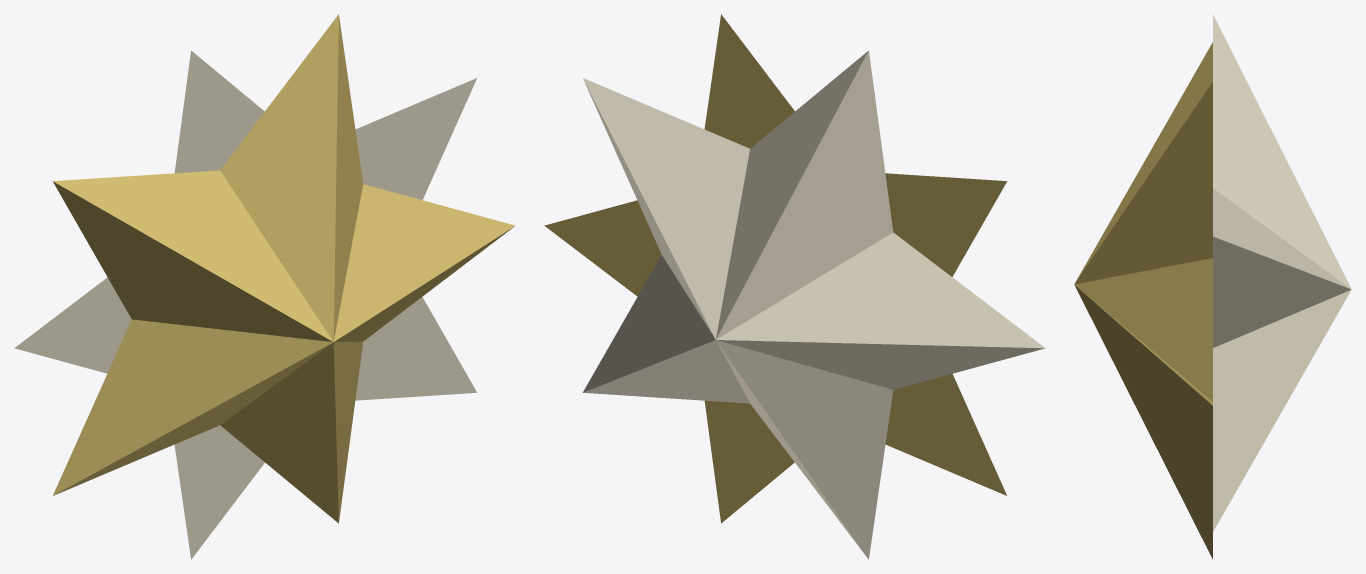
File: star.glb
The picture shows the model from 3 angles, left to right: view 1: azimuth 30°, elevation 25°; view 2: azimuth 150°, elevation 25°; view 3: azimuth 270°, elevation 25°; orthographic projection. The views are drawn at different scales.
Parts seen in each view (by area): view 1: Mesh_Mesh_head_geo.001_lambert2SG.001; view 2: Mesh_Mesh_head_geo.001_lambert2SG.001; view 3: Mesh_Mesh_head_geo.001_lambert2SG.001.
Boxes of the visible parts, x1,y1,x2,y2 form: Mesh_Mesh_head_geo.001_lambert2SG.001: (14, 14, 515, 559); Mesh_Mesh_head_geo.001_lambert2SG.001: (544, 14, 1045, 559); Mesh_Mesh_head_geo.001_lambert2SG.001: (1074, 14, 1351, 559).
Size of the model in its own units: 39.18 by 38.06 by 20.
